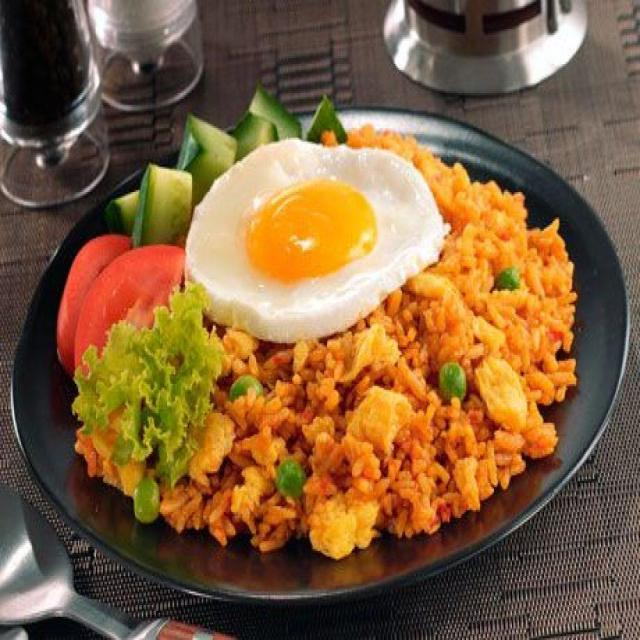Nasi Goreng: (143, 142, 558, 518)
